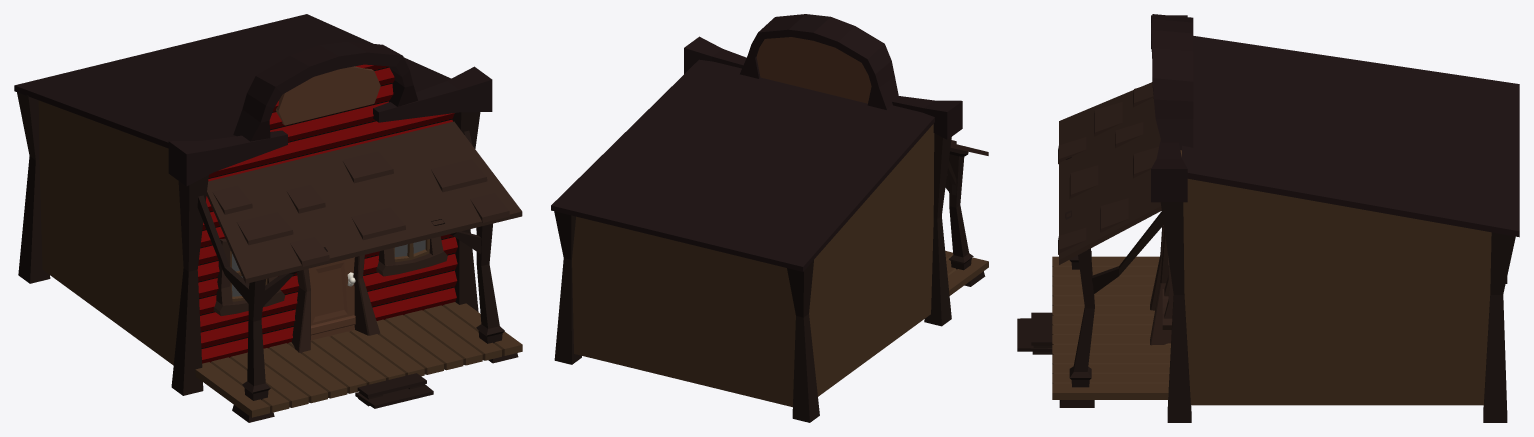
The model's file is Building08.fbx.
The picture shows the model from 3 angles, left to right: view 1: azimuth 30°, elevation 25°; view 2: azimuth 150°, elevation 25°; view 3: azimuth 270°, elevation 25°; orthographic projection. The views are drawn at different scales.
Visible parts, largest first — view 1: Cube.240; view 2: Cube.240; view 3: Cube.240.
Part boxes in pixels (x1,y1,x2,y2): Cube.240: (14, 14, 522, 422); Cube.240: (551, 14, 988, 422); Cube.240: (1017, 14, 1519, 422).
Size of the model in its own units: 564 by 545 by 779.
